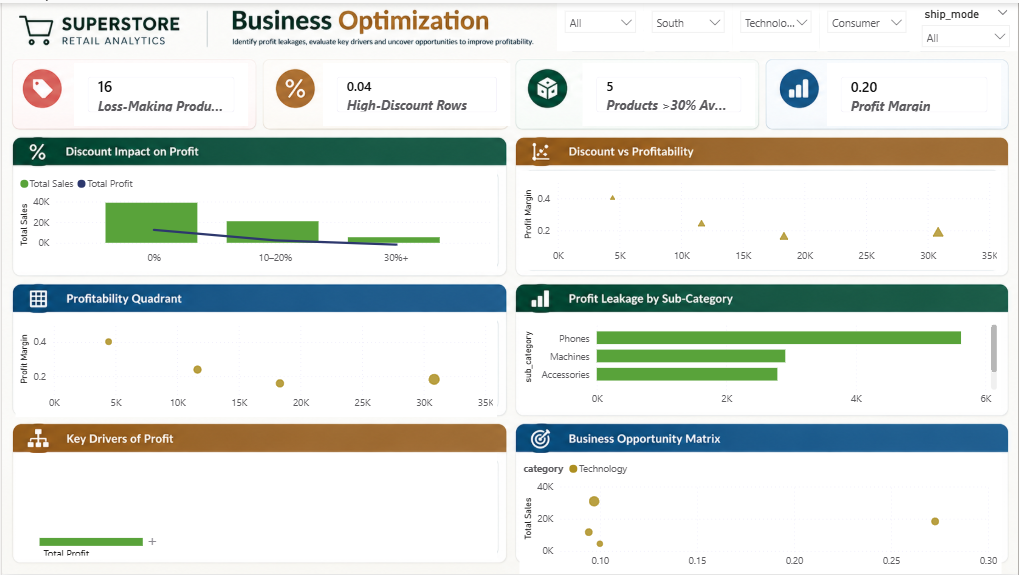

The dashboard page shown, as its layout file describes it:
{"tool":"powerbi","page":{"name":"Page 4","canvas":[1280,720],"ordinal":3},"visuals":[{"type":"slicer","fields":{"Values":["superstore_cleaned.order_date.Variation.Date Hierarchy.Year"]},"box":[699.2,0,109.6,60.5],"z":4000},{"type":"slicer","fields":{"Values":["superstore_cleaned.region"]},"box":[808.8,0,111.5,60.5],"z":5000},{"type":"slicer","fields":{"Values":["superstore_cleaned.category"]},"box":[920.3,0,109.6,60.5],"z":6000},{"type":"slicer","fields":{"Values":["superstore_cleaned.segment"]},"box":[1029.9,0,119.1,60.5],"z":7000},{"type":"slicer","fields":{"Values":["superstore_cleaned.ship_mode"]},"box":[1149,0,130.4,60.5],"z":8000},{"type":"cardVisual","fields":{"Data":["Recommendation Areas.Loss-Making Products"]},"box":[90.7,75.6,219.2,79.4],"z":8001},{"type":"cardVisual","fields":{"Data":["Recommendation Areas.High-Discount Rows"]},"box":[404.4,75.6,236.2,79.4],"z":8002},{"type":"cardVisual","fields":{"Data":["Recommendation Areas.Products >30% Avg Discount"]},"box":[731.3,75.6,217.3,79.4],"z":8003},{"type":"cardVisual","fields":{"Data":["superstore_cleaned.Profit Margin"]},"box":[1039.4,75.6,219.2,79.4],"z":8004},{"type":"lineClusteredColumnComboChart","fields":{"Category":["superstore_cleaned.discount_band"],"Y":["superstore_cleaned.Total Sales"],"Y2":["superstore_cleaned.Total Profit"]},"box":[17,207.9,606.6,130.4],"z":8005},{"type":"scatterChart","fields":{"Y":["superstore_cleaned.Profit Margin"],"Series":["superstore_cleaned.category"],"X":["superstore_cleaned.Total Sales"],"Size":["superstore_cleaned.Total Profit"],"Category":["superstore_cleaned.sub_category"]},"box":[17,391.2,606.6,130.4],"z":8006},{"type":"scatterChart","fields":{"X":["superstore_cleaned.Total Sales"],"Y":["superstore_cleaned.Profit Margin"],"Series":["superstore_cleaned.category"],"Size":["superstore_cleaned.Total Sales"],"Category":["superstore_cleaned.sub_category"]},"box":[652,211.7,606.6,124.7],"z":8007},{"type":"clusteredBarChart","fields":{"Category":["superstore_cleaned.sub_category"],"Y":["superstore_cleaned.Total Profit"]},"box":[652,391.2,606.6,124.7],"z":8008},{"type":"decompositionTreeVisual","fields":{"ExplainBy":["superstore_cleaned.region","superstore_cleaned.category","superstore_cleaned.segment","superstore_cleaned.sub_category","superstore_cleaned.ship_mode"],"Analyze":["superstore_cleaned.Total Profit"]},"box":[17,566.9,606.6,134.2],"z":8009},{"type":"scatterChart","fields":{"X":["superstore_cleaned.Average Discount"],"Y":["superstore_cleaned.Total Sales"],"Series":["superstore_cleaned.category"],"Size":["superstore_cleaned.Total Profit"],"Category":["superstore_cleaned.sub_category"]},"box":[652,567,607,153],"z":8010}]}

Visuals, with their boxes in screenshot pixels (x1, y1, x2, y2), scaled from the page's 1280x720 canvas onto the 1019x575 screenshot:
slicer - superstore_cleaned.order_date.Variation.Date Hierarchy.Year: bbox=[557, 0, 644, 48]
slicer - superstore_cleaned.region: bbox=[644, 0, 733, 48]
slicer - superstore_cleaned.category: bbox=[733, 0, 820, 48]
slicer - superstore_cleaned.segment: bbox=[820, 0, 915, 48]
slicer - superstore_cleaned.ship_mode: bbox=[915, 0, 1018, 48]
cardVisual - Recommendation Areas.Loss-Making Products: bbox=[72, 60, 247, 124]
cardVisual - Recommendation Areas.High-Discount Rows: bbox=[322, 60, 510, 124]
cardVisual - Recommendation Areas.Products >30% Avg Discount: bbox=[582, 60, 755, 124]
cardVisual - superstore_cleaned.Profit Margin: bbox=[827, 60, 1002, 124]
lineClusteredColumnComboChart - superstore_cleaned.discount_band x superstore_cleaned.Total Sales: bbox=[14, 166, 496, 270]
scatterChart - superstore_cleaned.Profit Margin x superstore_cleaned.category: bbox=[14, 312, 496, 417]
scatterChart - superstore_cleaned.Total Sales x superstore_cleaned.Profit Margin: bbox=[519, 169, 1002, 269]
clusteredBarChart - superstore_cleaned.sub_category x superstore_cleaned.Total Profit: bbox=[519, 312, 1002, 412]
decompositionTreeVisual - superstore_cleaned.region x superstore_cleaned.category: bbox=[14, 453, 496, 560]
scatterChart - superstore_cleaned.Average Discount x superstore_cleaned.Total Sales: bbox=[519, 453, 1002, 574]
